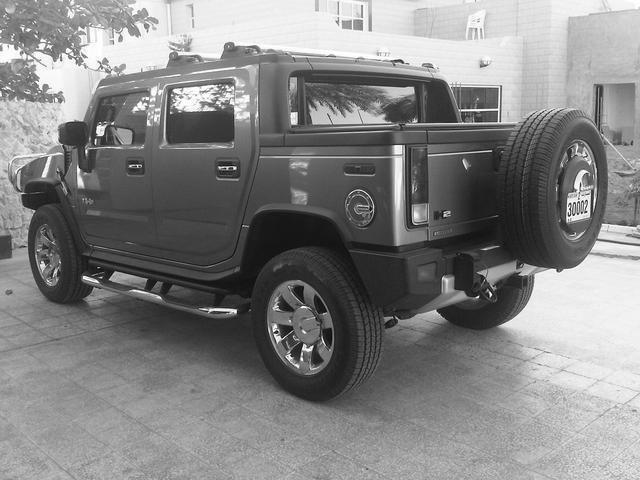car: (9, 41, 609, 405)
